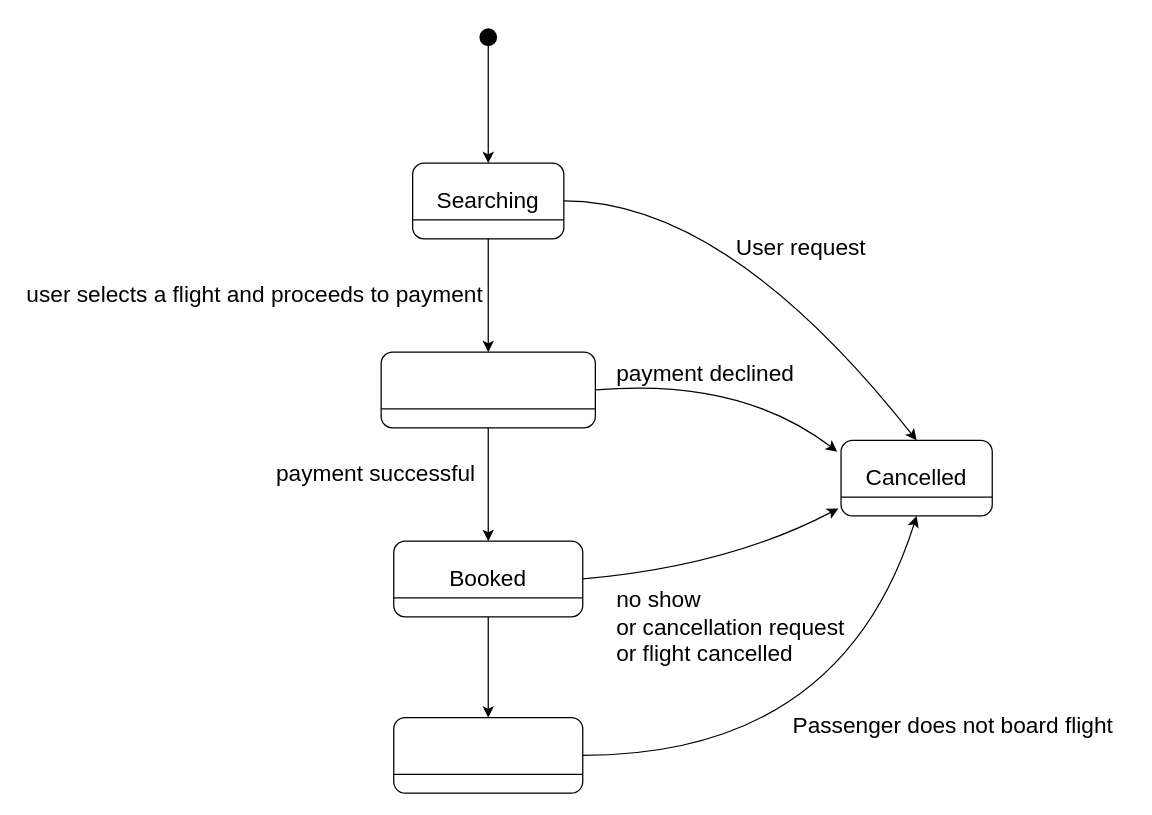
This 1152x815 diagram has some shape labels left out. The shapes that lost their labels are listed below. From the top down, each one's centre as x and y in pixels, then its label:
At (487,389): "Pending Payment".
At (487,754): "Checked-in".
